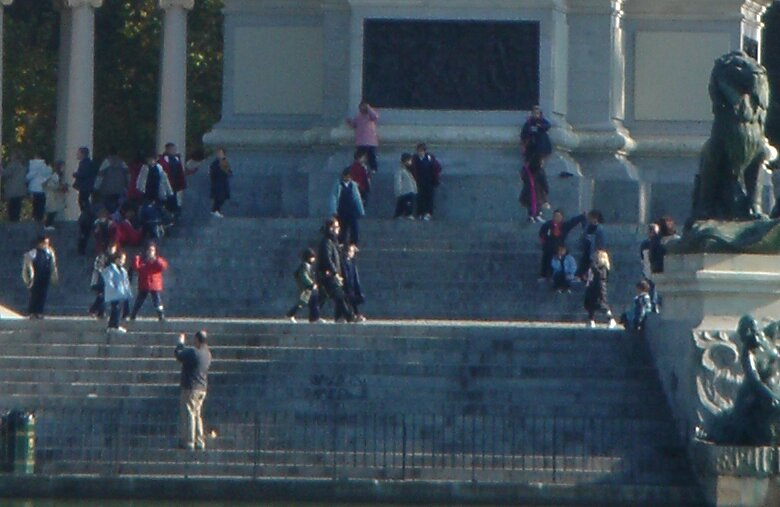person: (171, 324, 224, 453), (308, 217, 360, 322), (20, 231, 67, 321), (128, 239, 173, 320), (583, 253, 618, 331), (332, 170, 366, 249), (352, 96, 383, 168)
